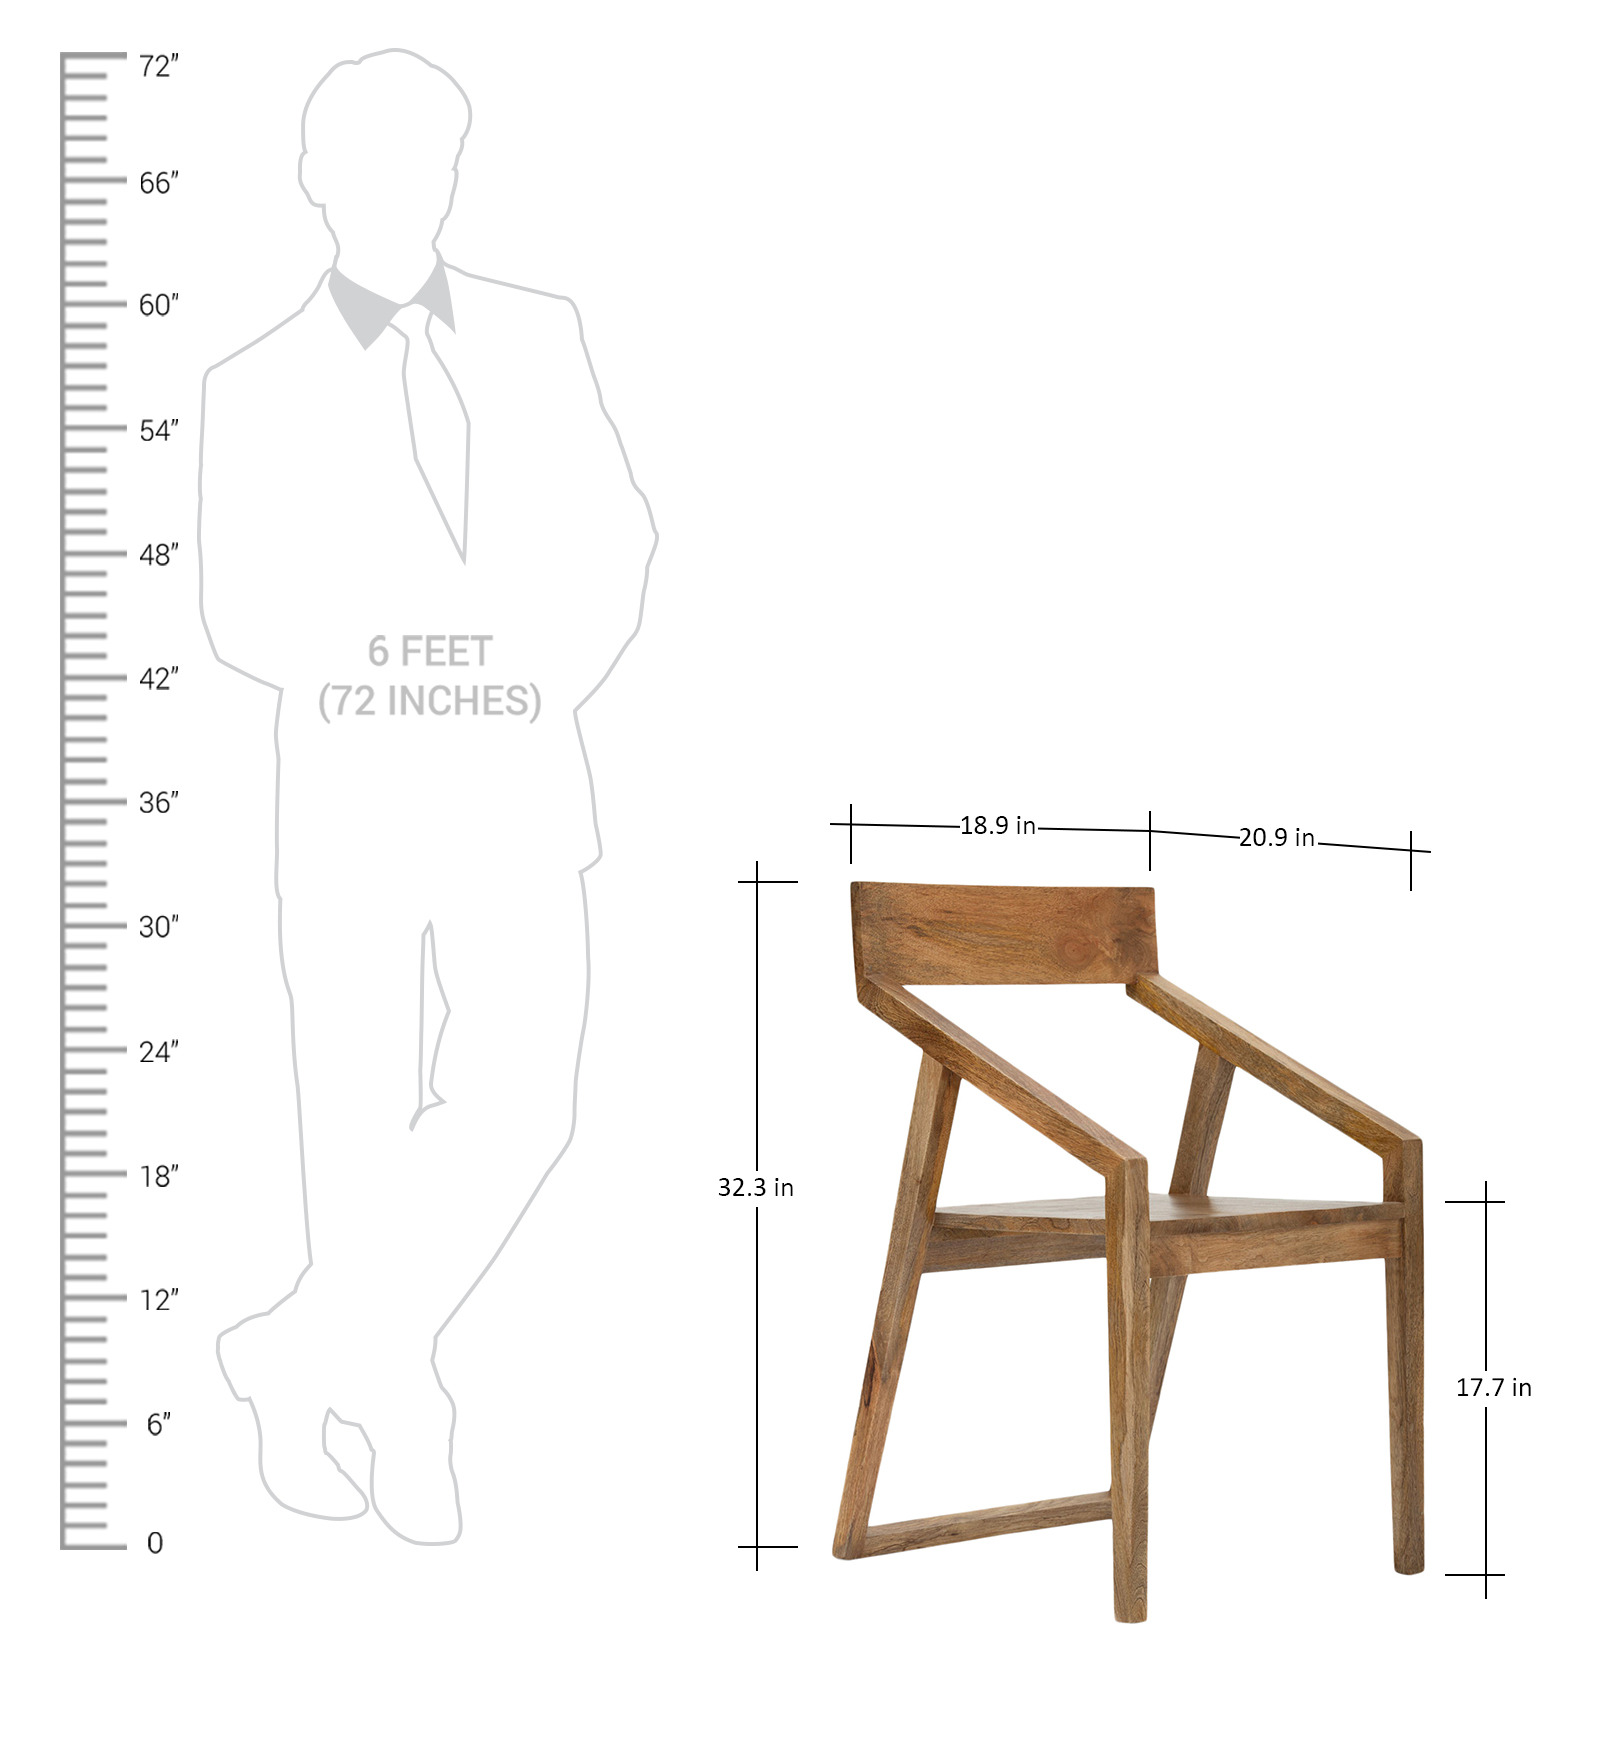Dulwich Solid Wood Arm Chair in Natural Finish by TheArmchair: (795, 863, 1447, 1639)
